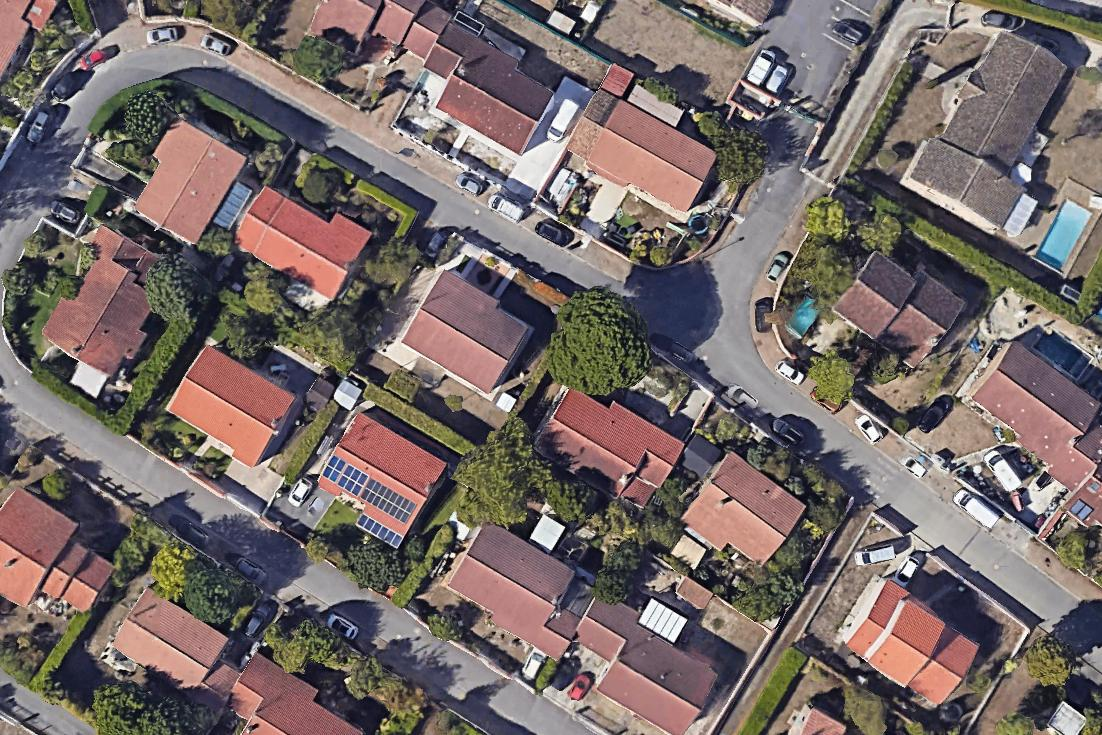maison: (898, 18, 1090, 241), (949, 325, 1102, 534), (555, 591, 725, 735), (442, 517, 603, 663), (37, 223, 183, 382), (530, 376, 686, 516), (563, 86, 721, 221), (306, 409, 451, 552), (407, 21, 560, 156), (838, 577, 984, 714), (0, 482, 124, 640), (162, 342, 303, 472), (831, 240, 968, 373), (229, 174, 372, 301), (398, 268, 535, 398), (677, 450, 808, 579), (122, 116, 245, 248), (109, 586, 233, 700), (215, 651, 369, 735), (310, 0, 451, 59), (0, 0, 56, 75), (787, 703, 845, 734)
